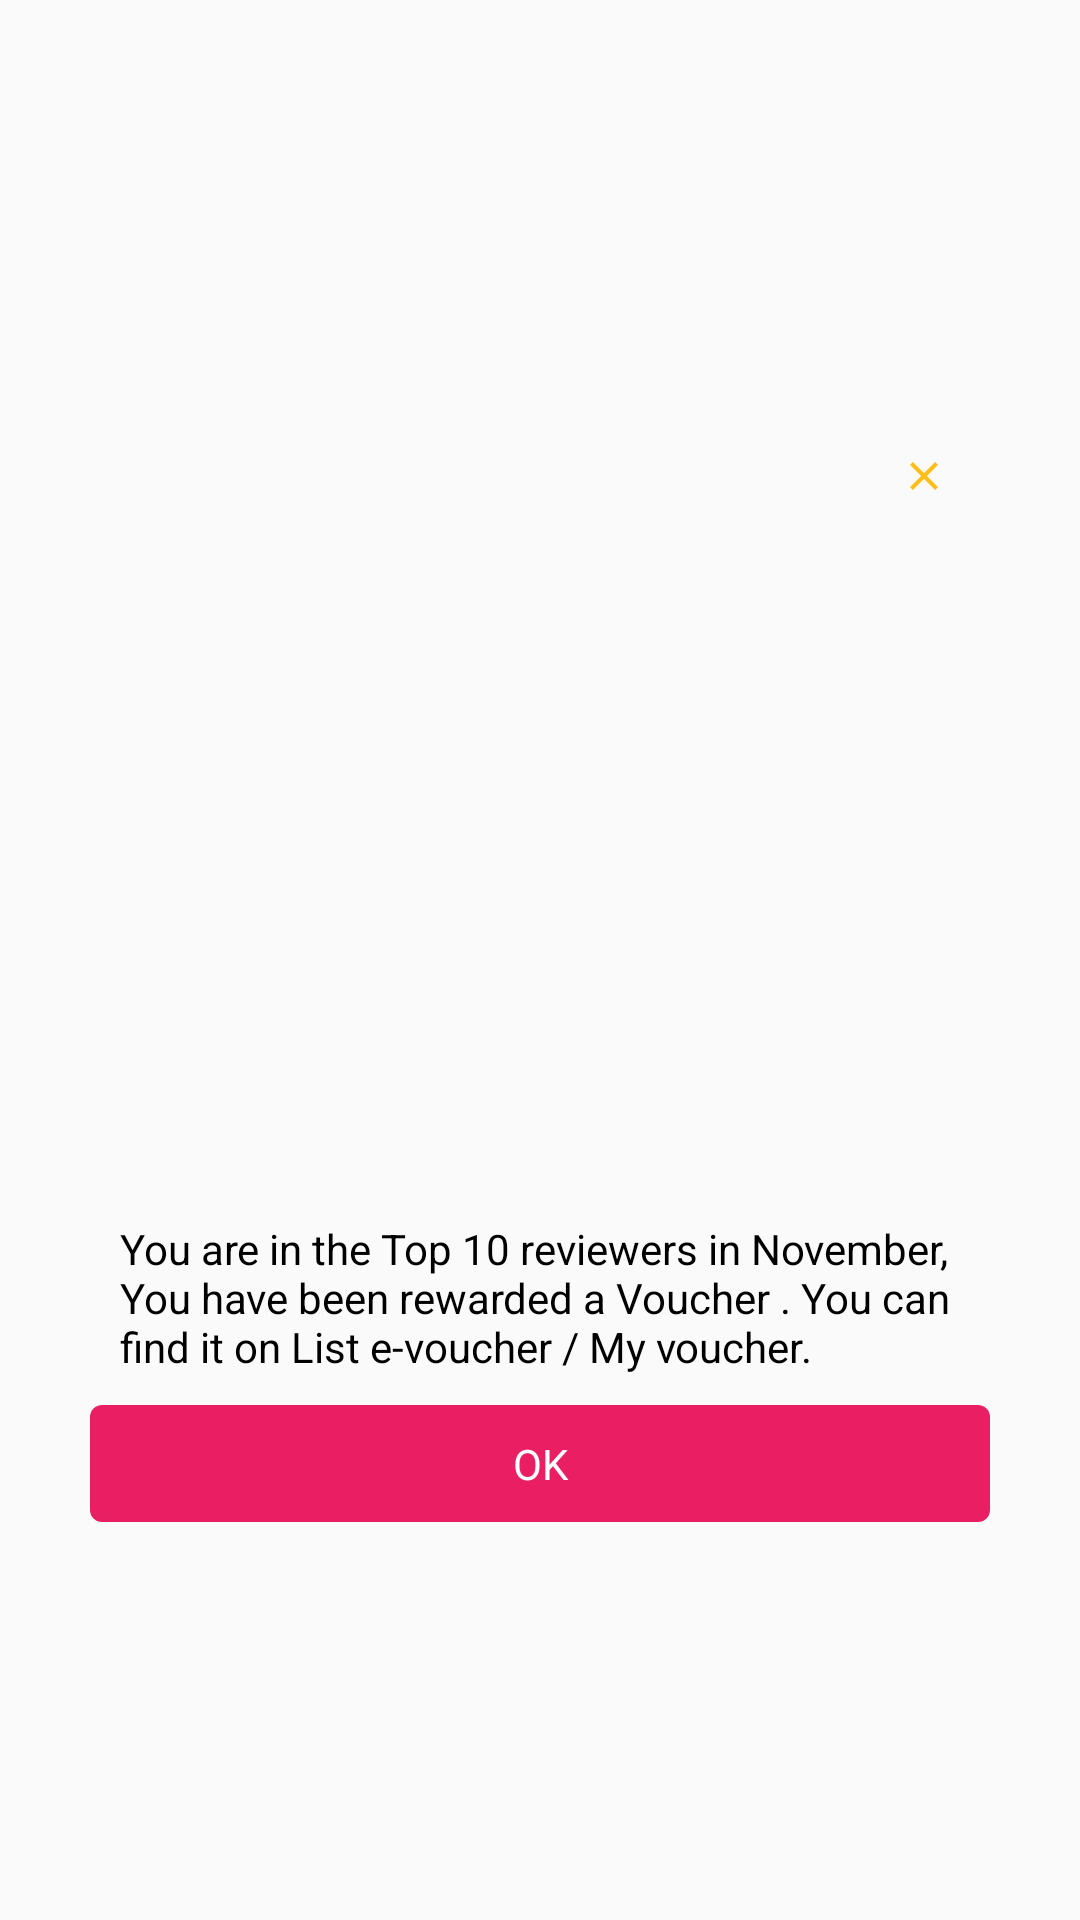

Where to tap for icons on this 1080px x 1920px app screen, as (x=x, y=y):
close: (x=924, y=476)
